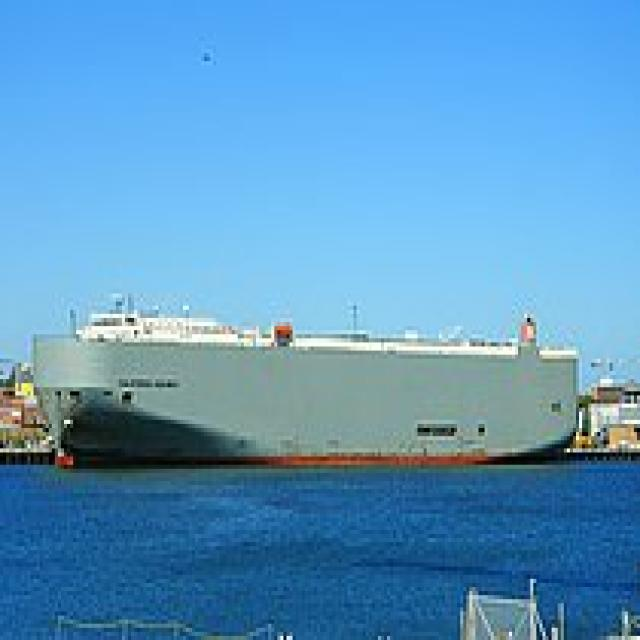Carrier: (24, 289, 579, 473)
